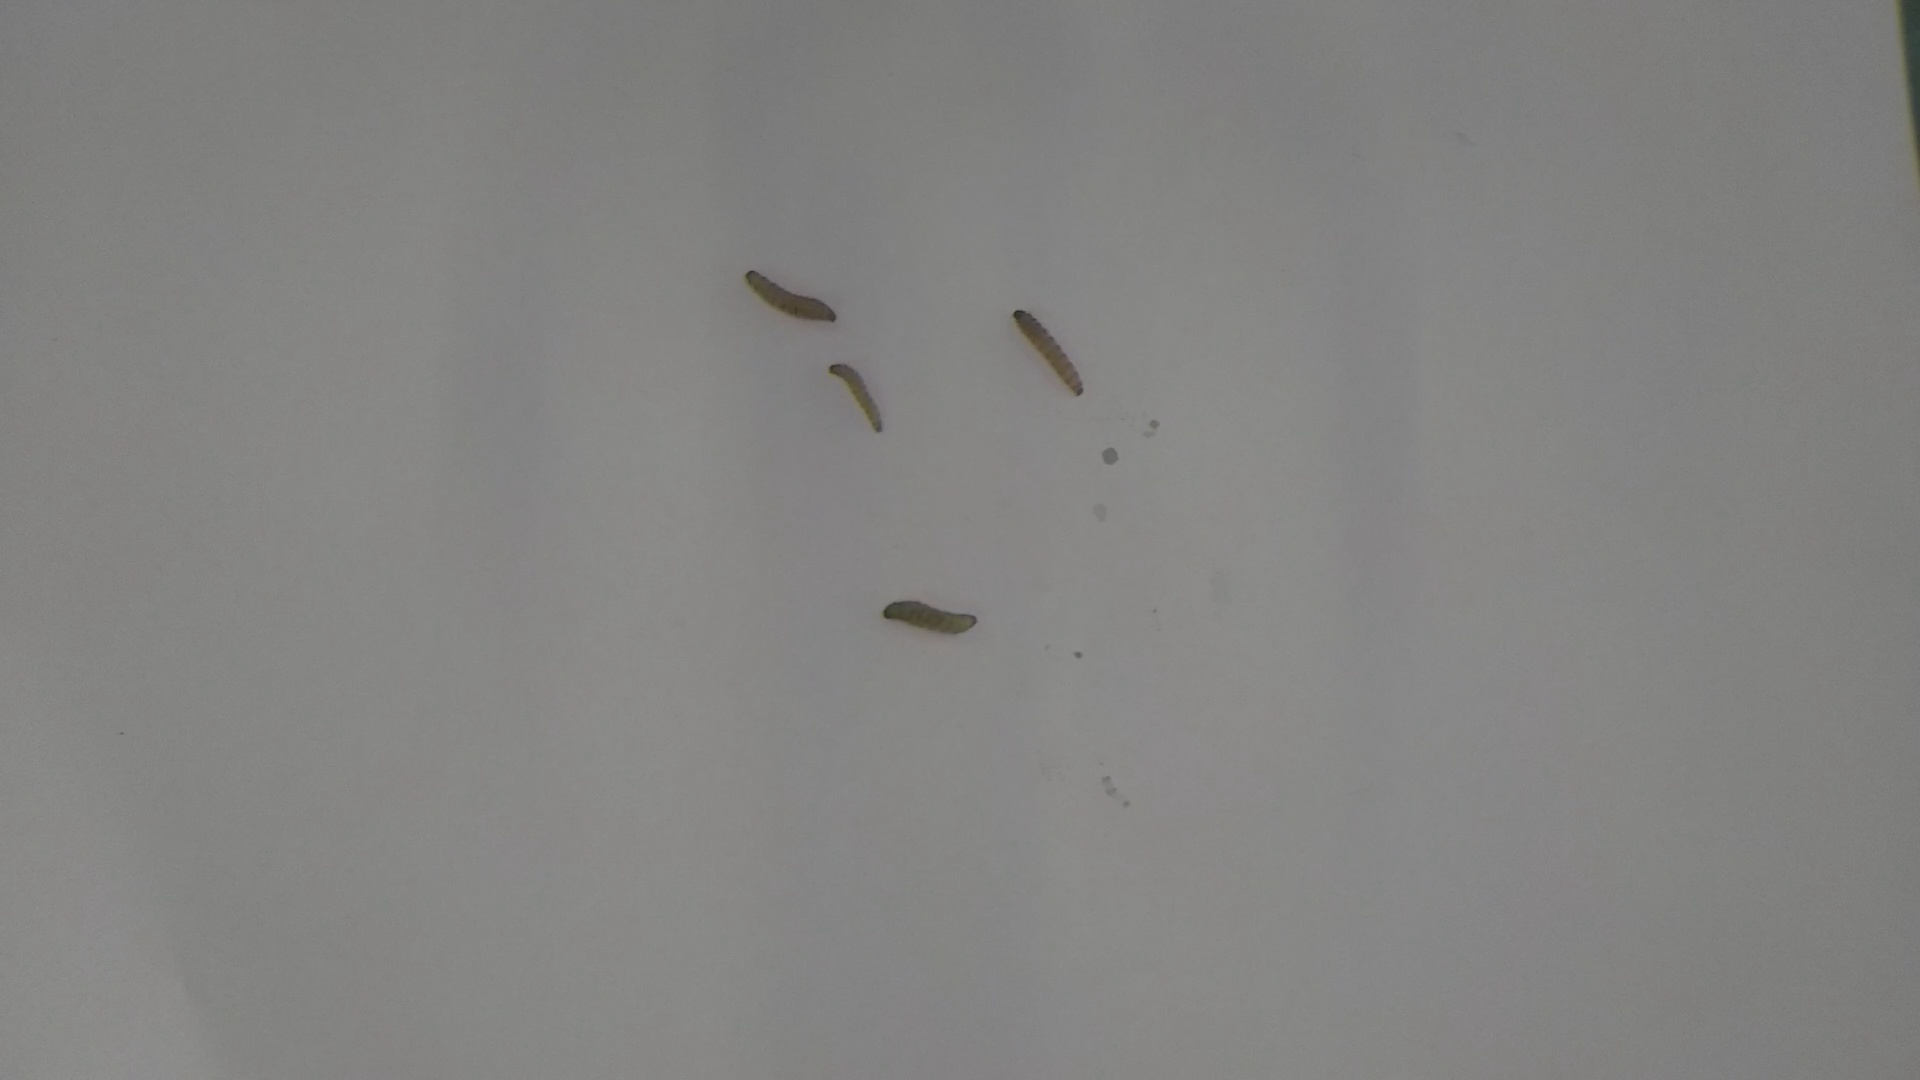efsb: (1007, 306, 1095, 402), (736, 264, 843, 327), (824, 353, 886, 435), (873, 593, 982, 640)
